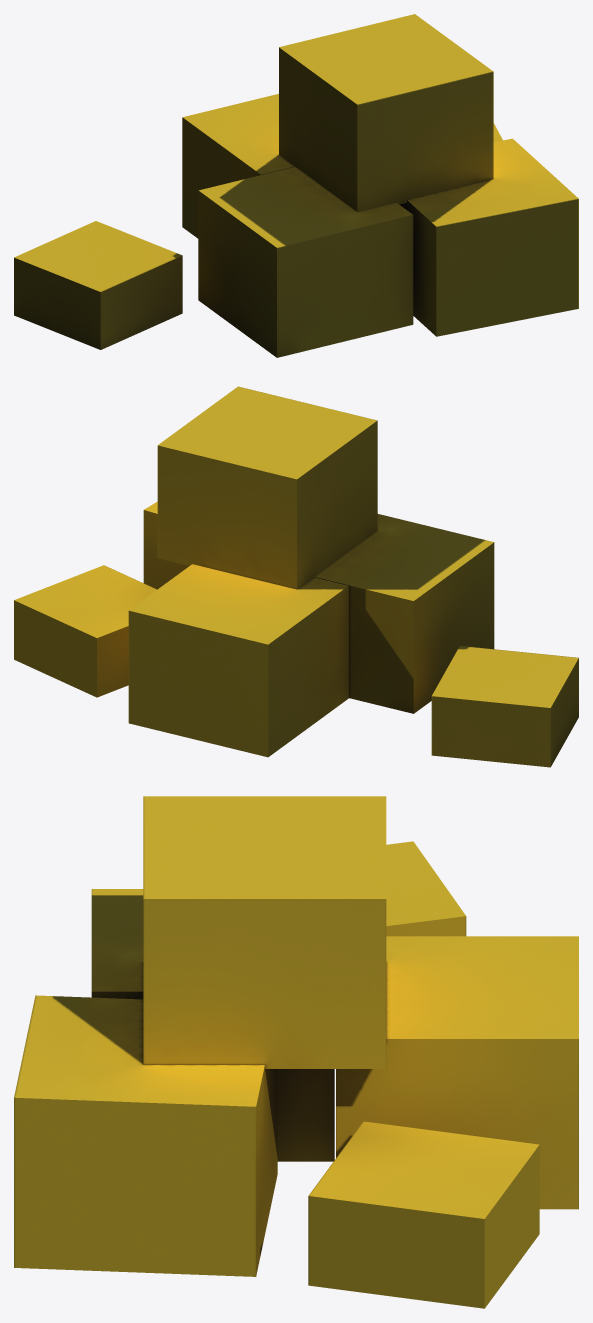
The model's file is wujian_02.fbx.
The picture shows the model from 3 angles, top to bottom: view 1: azimuth 30°, elevation 25°; view 2: azimuth 150°, elevation 25°; view 3: azimuth 270°, elevation 25°; orthographic projection. The views are drawn at different scales.
Visible parts, largest first — view 1: wujian_02; view 2: wujian_02; view 3: wujian_02.
Boxes of the visible parts, x1,y1,x2,y2 form: wujian_02: [14, 14, 578, 357]; wujian_02: [14, 386, 578, 767]; wujian_02: [14, 796, 578, 1308].
Size of the model in its own units: 11.97 by 4.96 by 7.57.
Materials: 1 (1 with a texture image).
